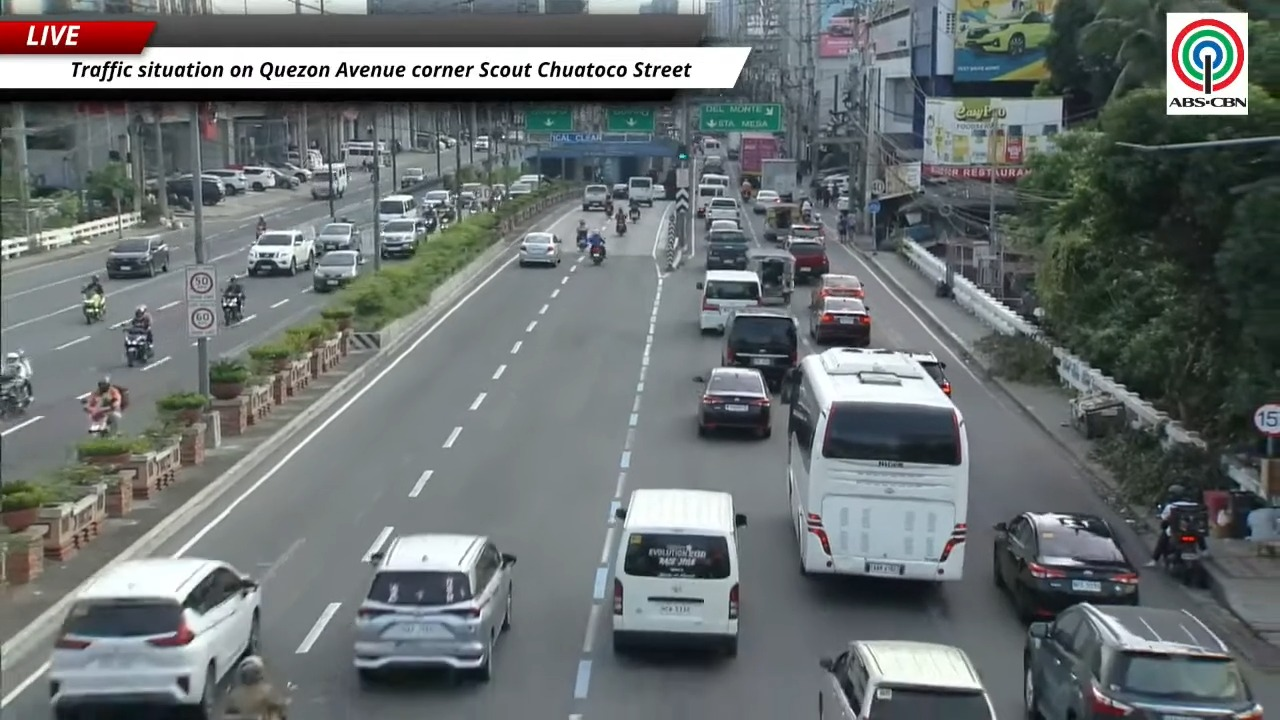bus: (782, 348, 969, 581), (342, 141, 391, 168)
car: (48, 557, 260, 719), (1023, 603, 1262, 719), (354, 535, 515, 682), (994, 512, 1138, 621), (819, 640, 995, 719), (721, 306, 798, 388), (697, 366, 770, 437), (963, 11, 1050, 56), (247, 229, 315, 275), (810, 297, 871, 347), (105, 237, 169, 278), (903, 351, 951, 395), (785, 237, 829, 282), (380, 218, 427, 259), (313, 251, 359, 292), (704, 228, 749, 269), (810, 274, 864, 306), (518, 232, 560, 266), (316, 222, 361, 253), (203, 169, 248, 195), (705, 197, 739, 228), (267, 161, 312, 183), (240, 165, 275, 191), (165, 174, 193, 201), (785, 222, 824, 241), (582, 184, 609, 210), (267, 168, 300, 189), (752, 190, 780, 214), (420, 190, 453, 208), (400, 167, 426, 189), (709, 218, 742, 232), (507, 181, 533, 198), (458, 190, 479, 209), (517, 174, 548, 186), (611, 183, 629, 200), (473, 135, 490, 150), (836, 193, 849, 212), (490, 183, 506, 198)
motorcycle: (1160, 505, 1208, 587), (222, 682, 296, 719), (0, 377, 30, 418), (124, 328, 152, 366), (82, 292, 106, 324), (221, 295, 242, 325), (87, 413, 111, 437), (589, 244, 605, 265), (576, 228, 587, 250), (629, 207, 640, 223), (615, 220, 626, 236), (255, 225, 265, 240), (740, 189, 750, 202)
truck: (740, 133, 779, 187), (759, 158, 798, 202), (726, 132, 742, 160)
